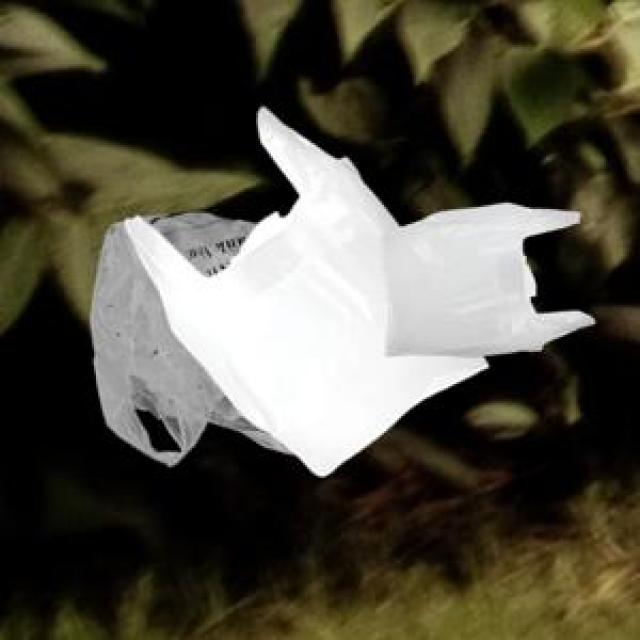plastic: (72, 94, 605, 490)
